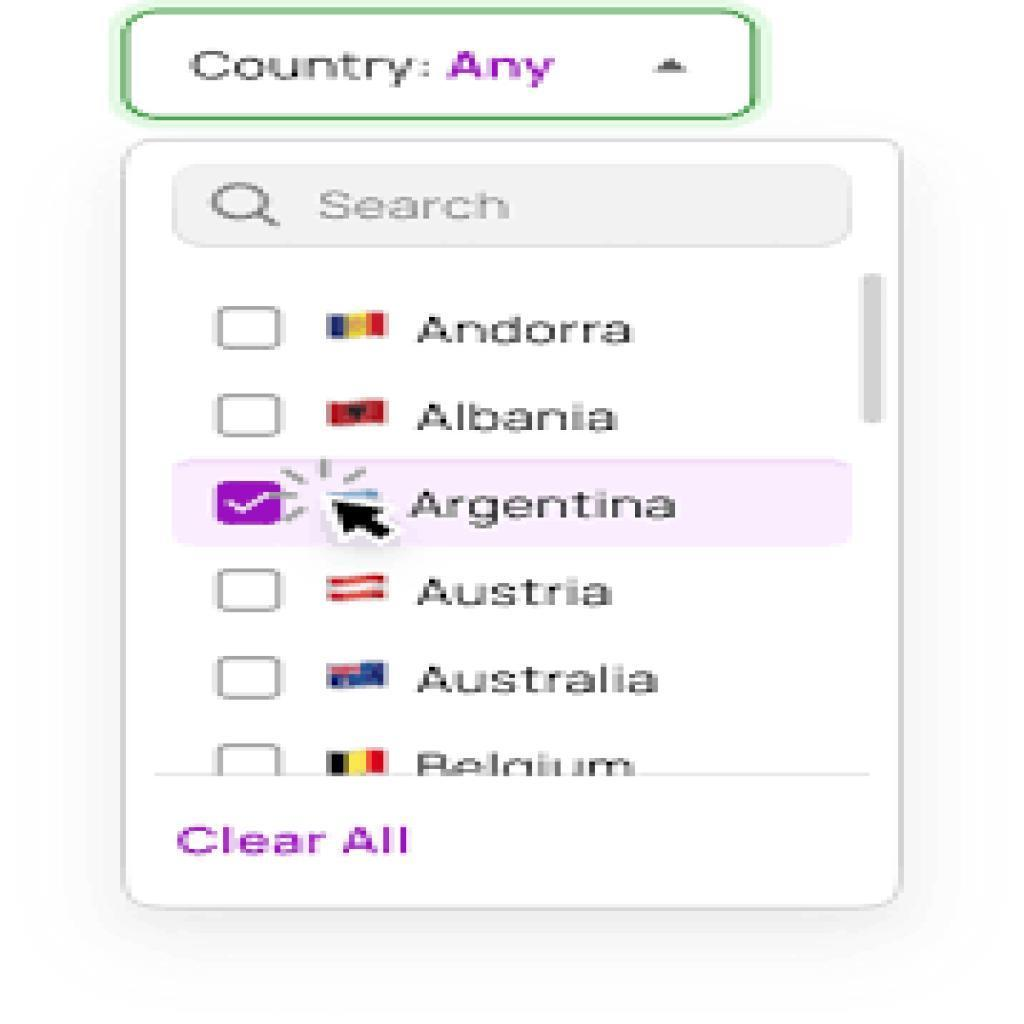checkbox: (215, 482, 289, 526), (218, 304, 284, 351), (217, 392, 284, 438), (217, 569, 284, 615), (217, 655, 285, 700)
dropdown: (132, 14, 750, 122)
icon: (323, 481, 411, 551), (322, 301, 397, 354), (325, 651, 397, 700), (210, 185, 294, 227), (327, 567, 399, 615), (324, 389, 389, 436)
input: (176, 167, 851, 251)
label: (175, 817, 418, 862)
